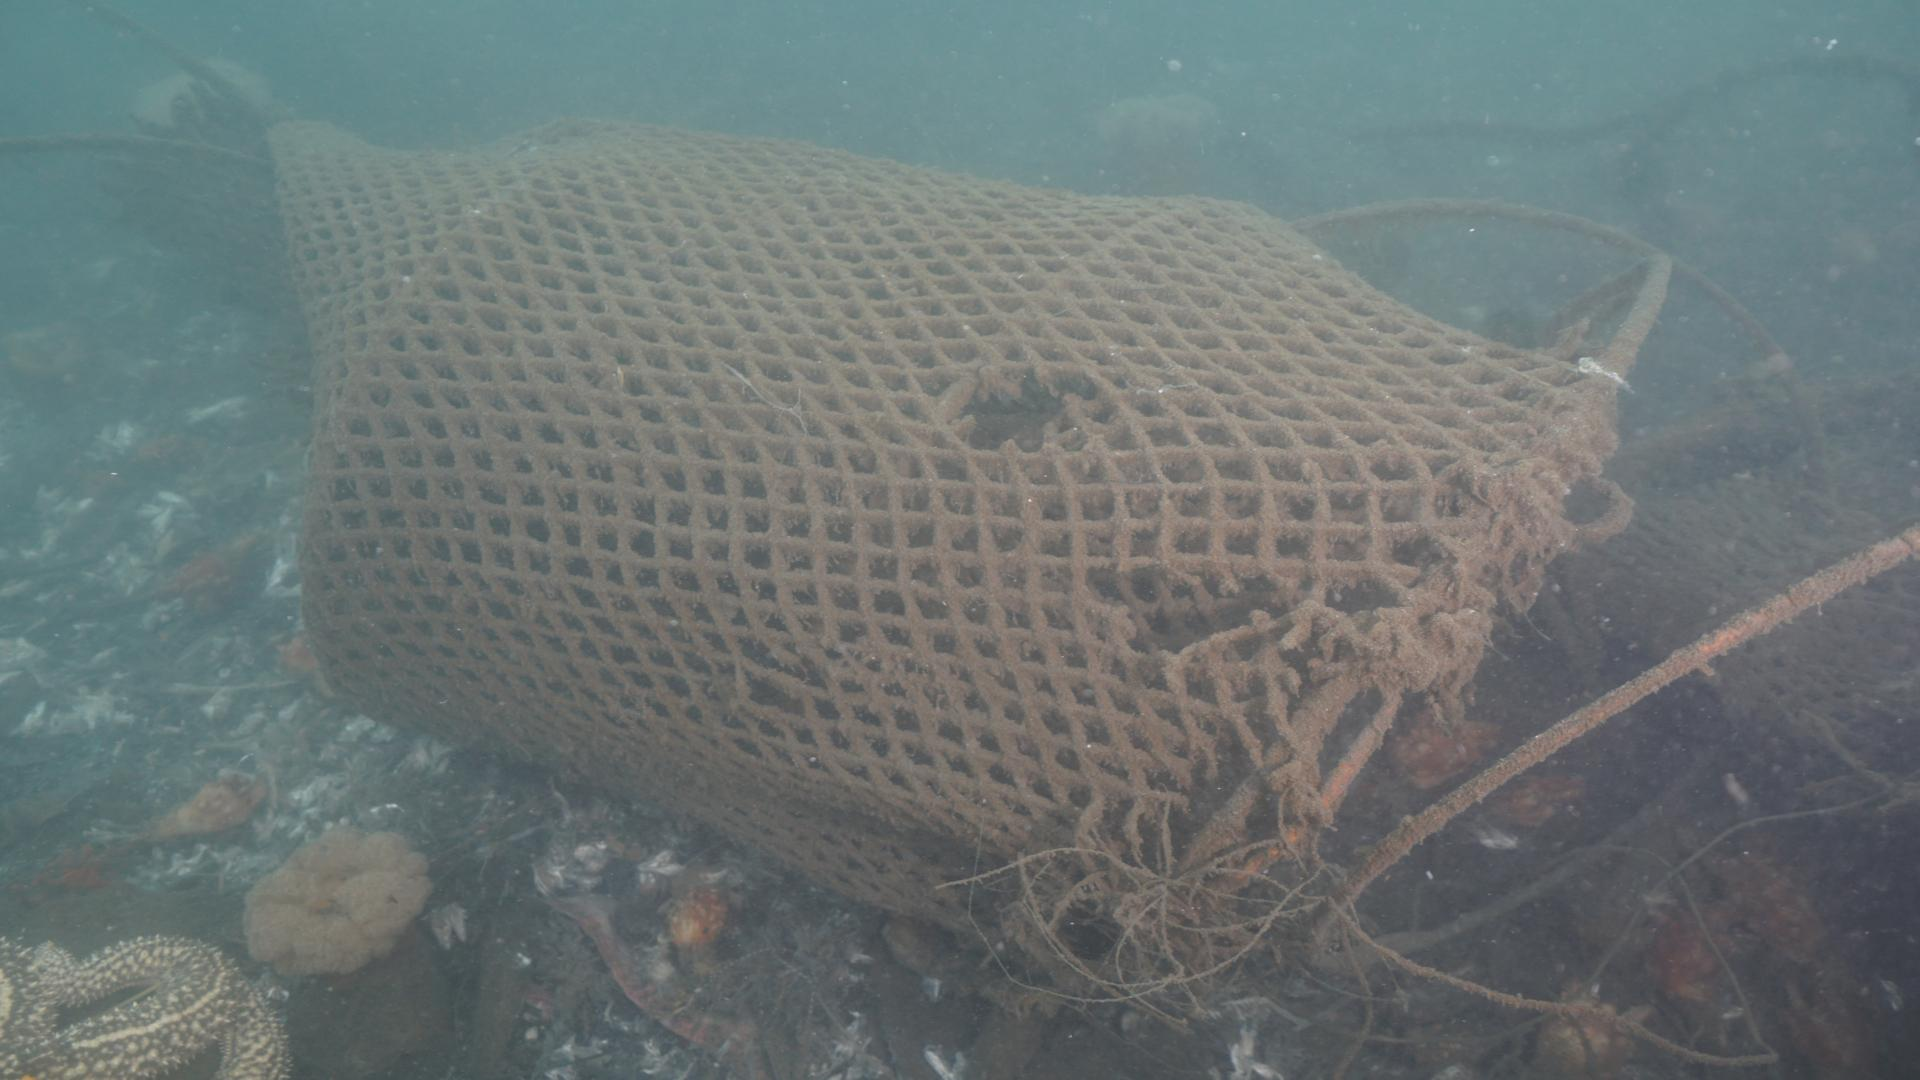spring fish trap: (268, 117, 1625, 997)
